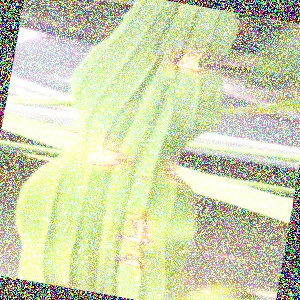Brown_Spot: (152, 30, 237, 88), (73, 126, 142, 182), (112, 201, 165, 273), (157, 144, 201, 199)
